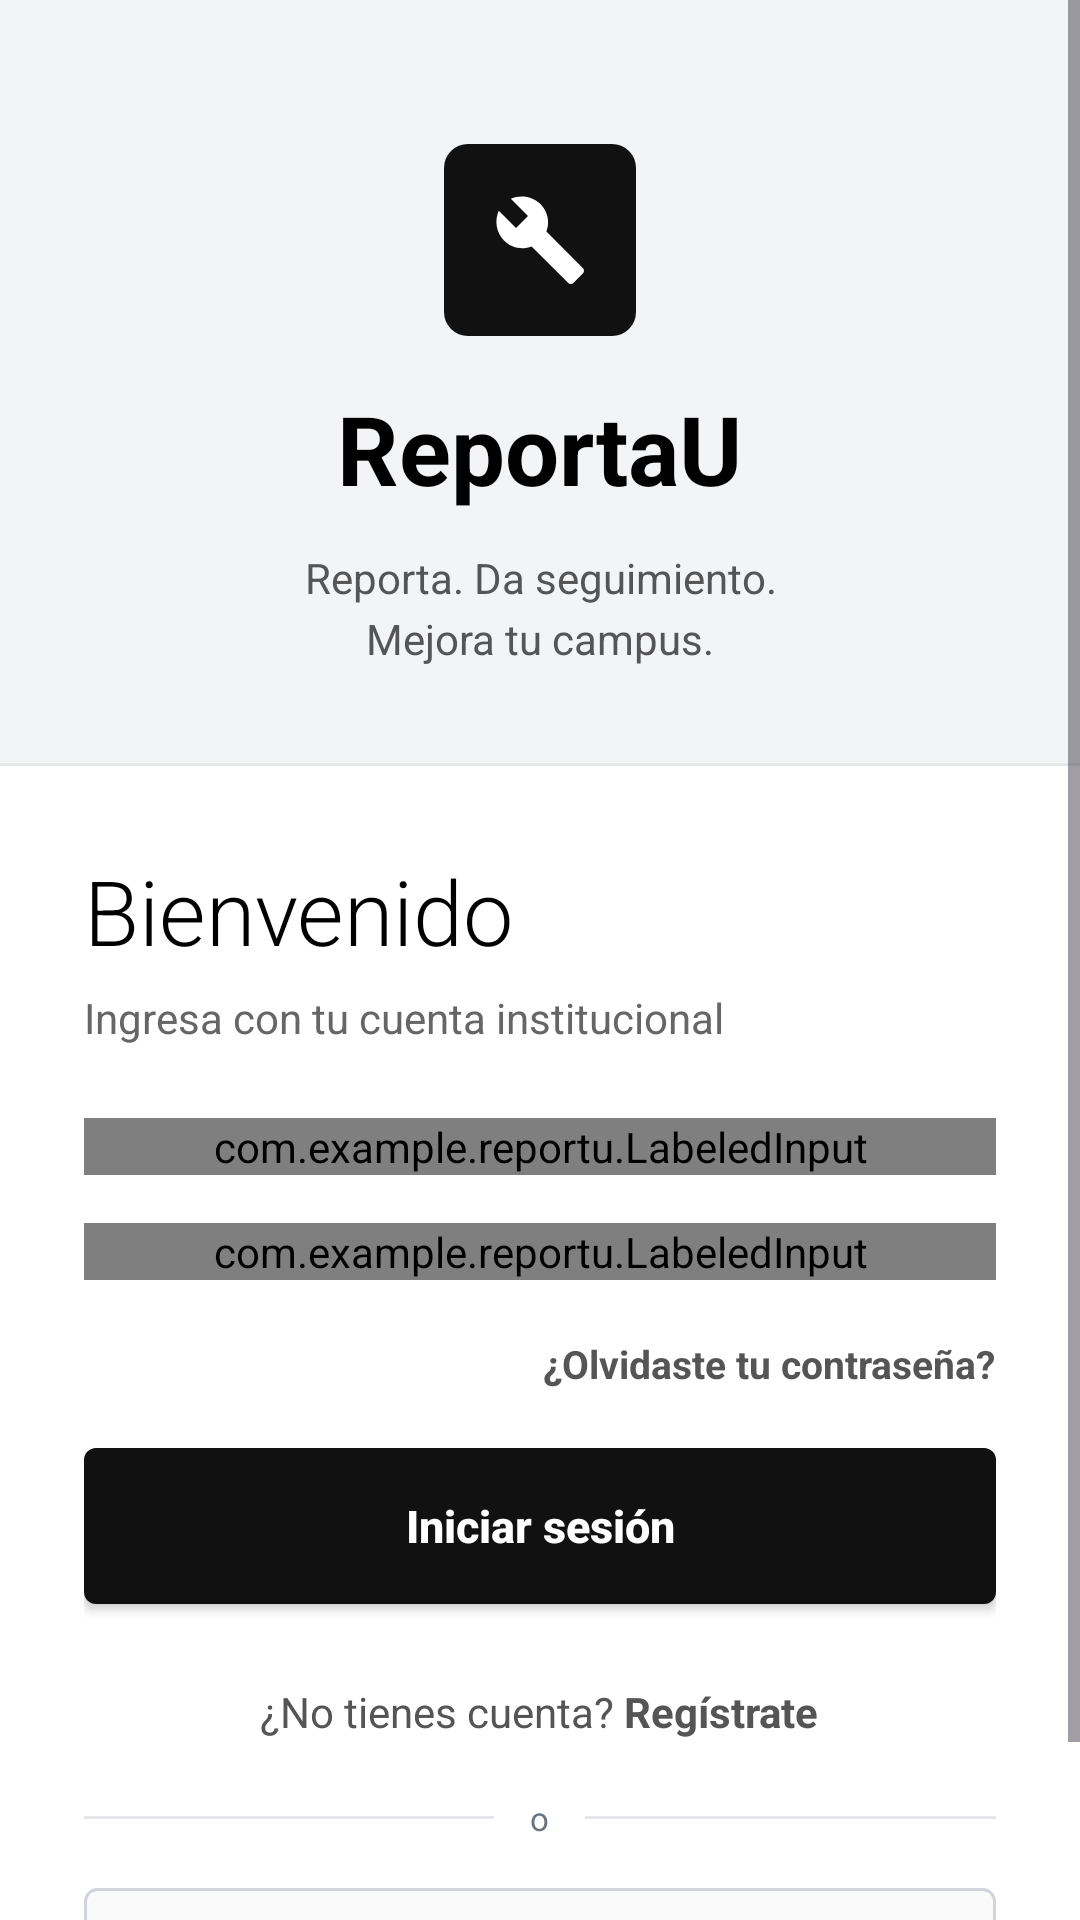

Locate icon controls on the screen. Image size 1080*1920, boxes as [left=x1, top=y1, right=x2, bottom=y2].
wrench: [left=444, top=144, right=636, bottom=336]
